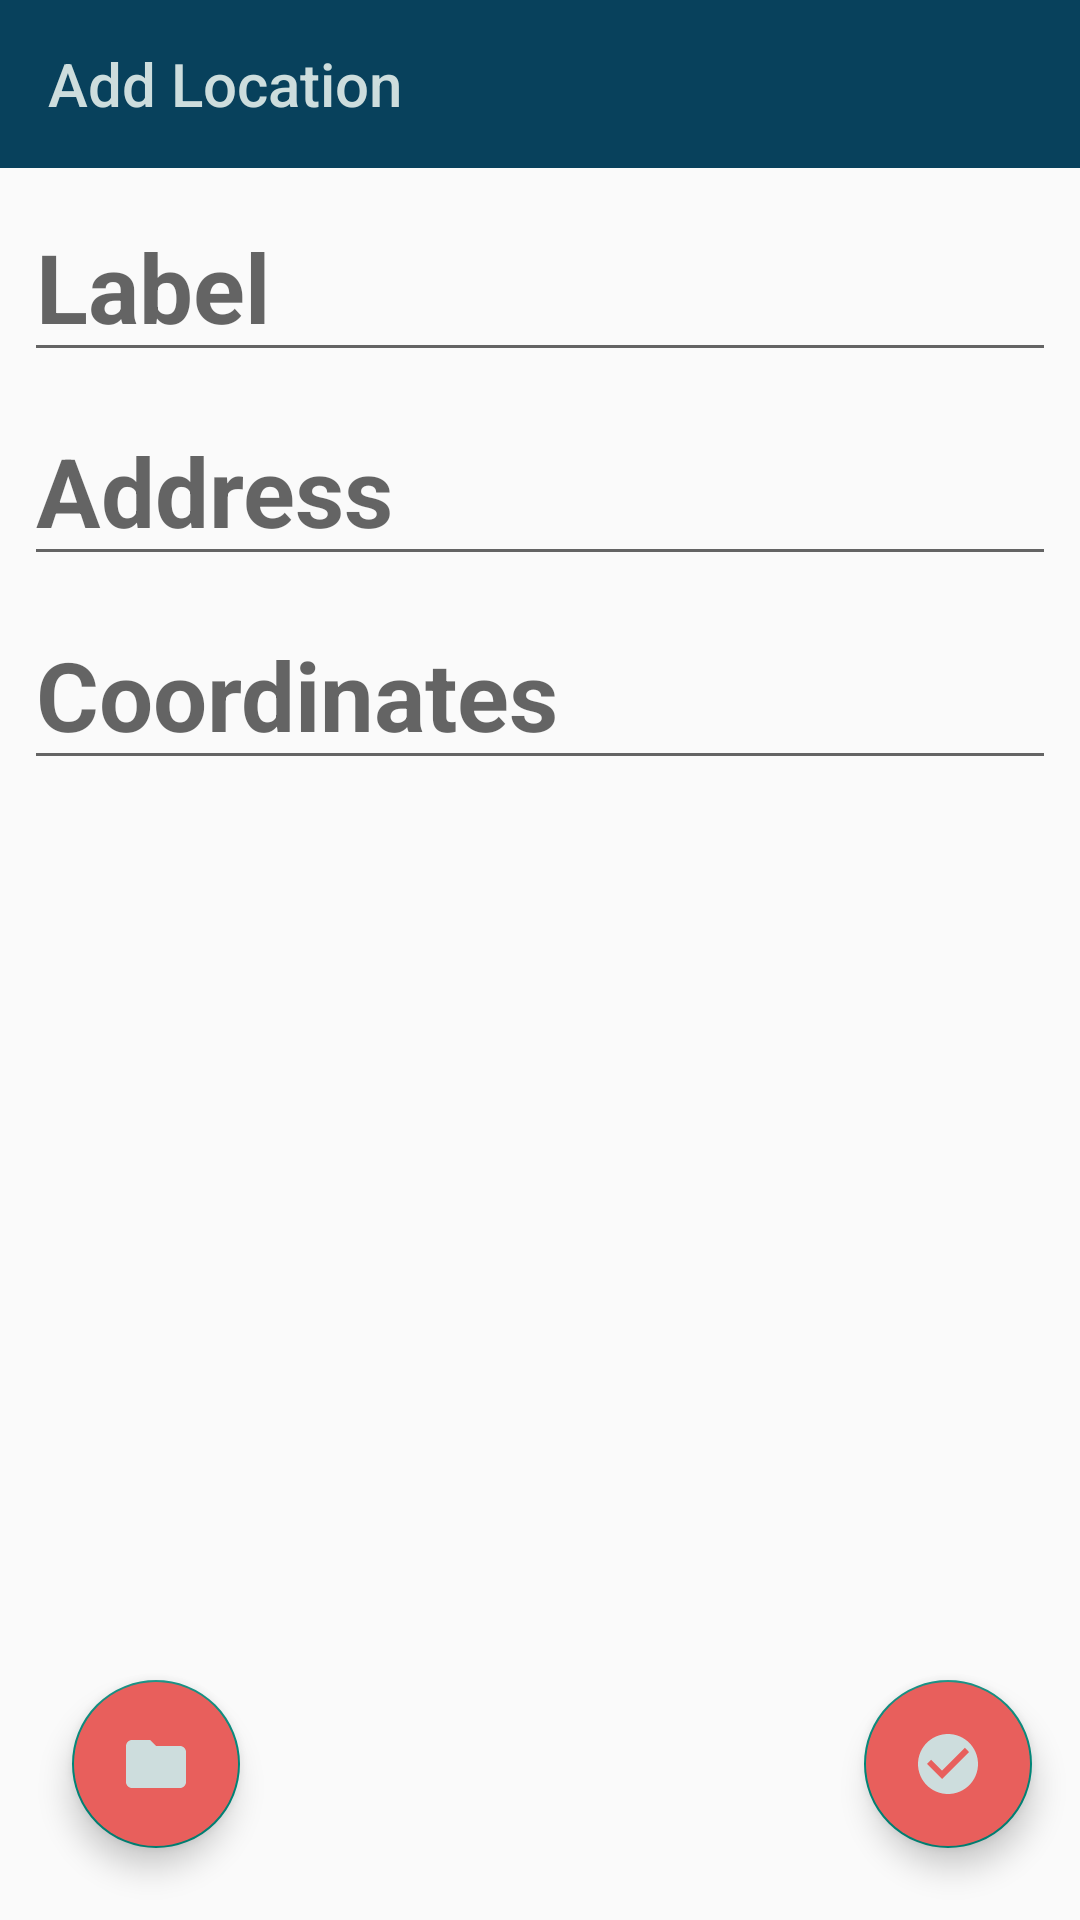

Icons on this 1080w x 1920h Android screen, each with its box as (x1, y1, x2, y2):
check: (864, 1680, 1032, 1848)
